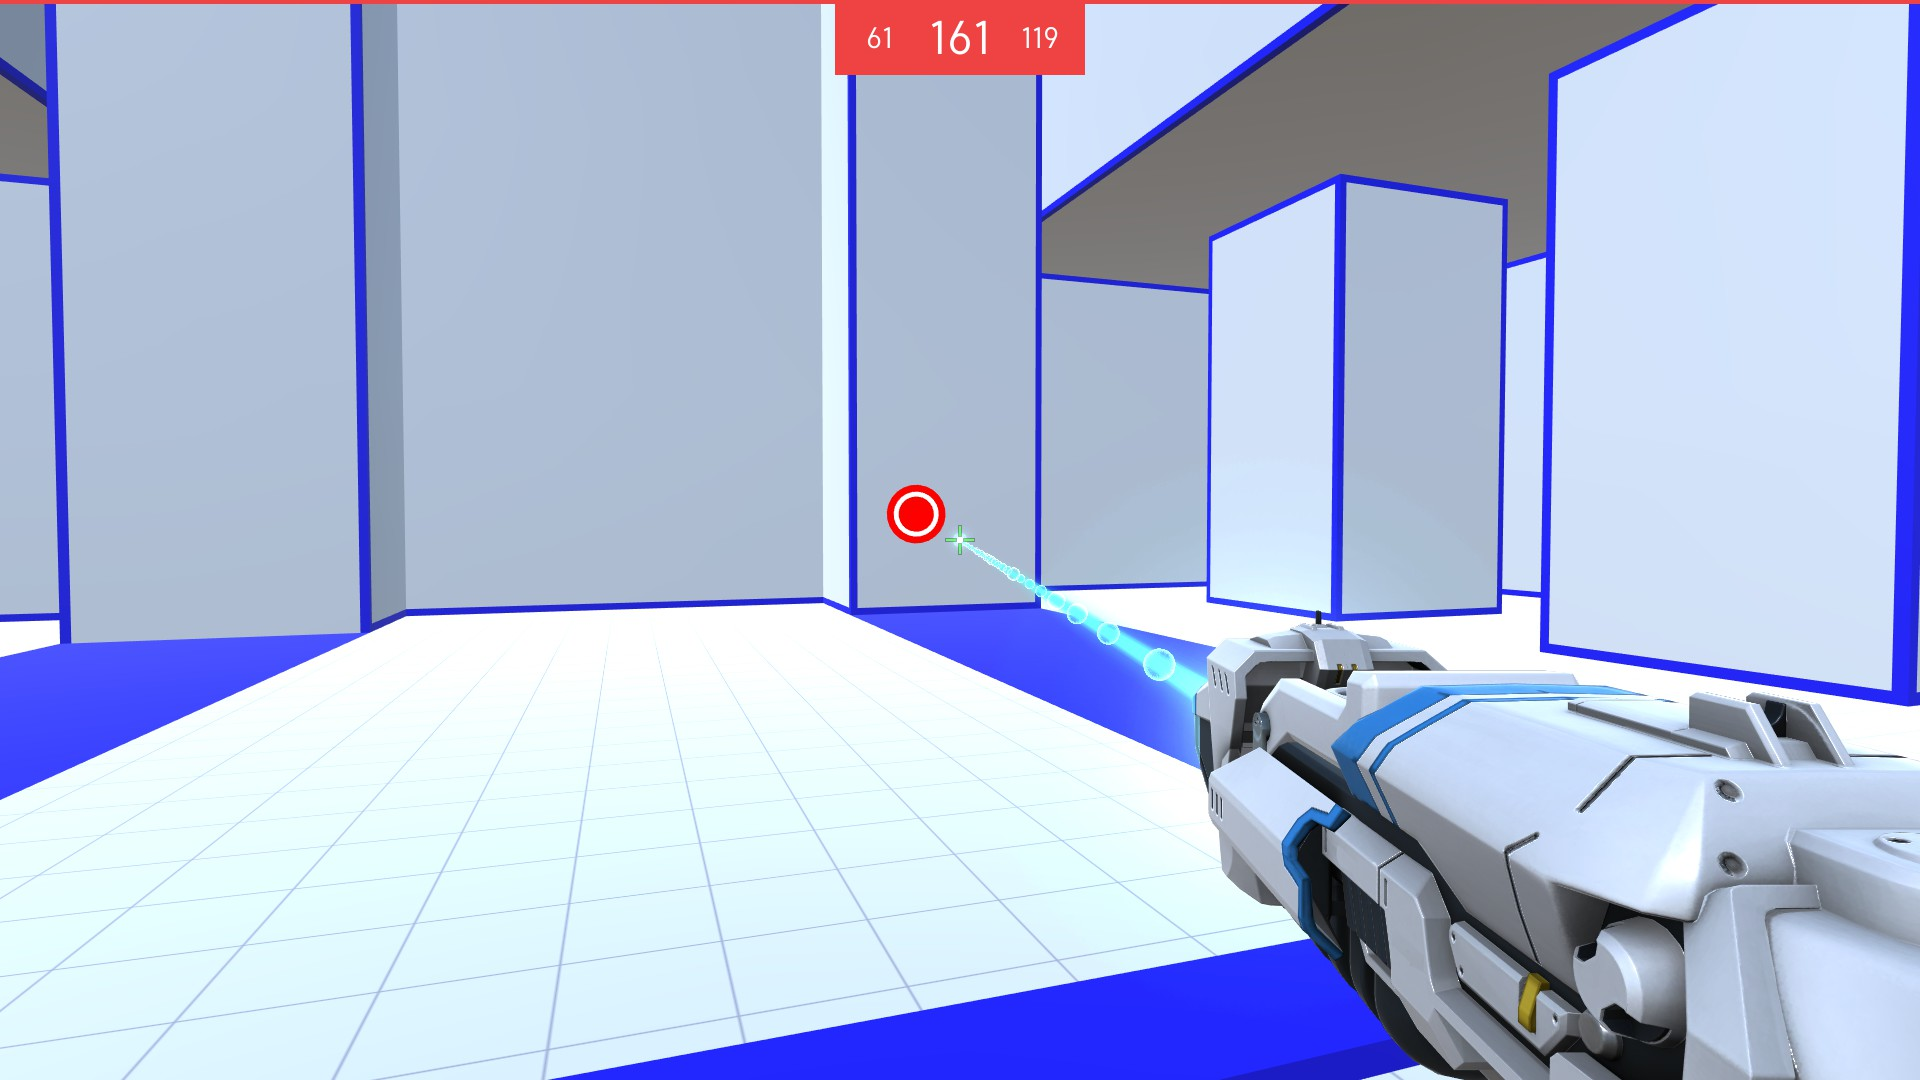target: (884, 483, 949, 545)
